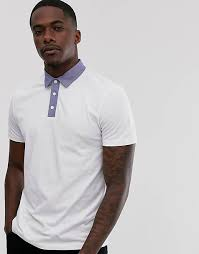S_polo shirt: (4, 62, 135, 254)
